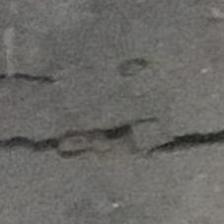Crack: (0, 64, 224, 165)
